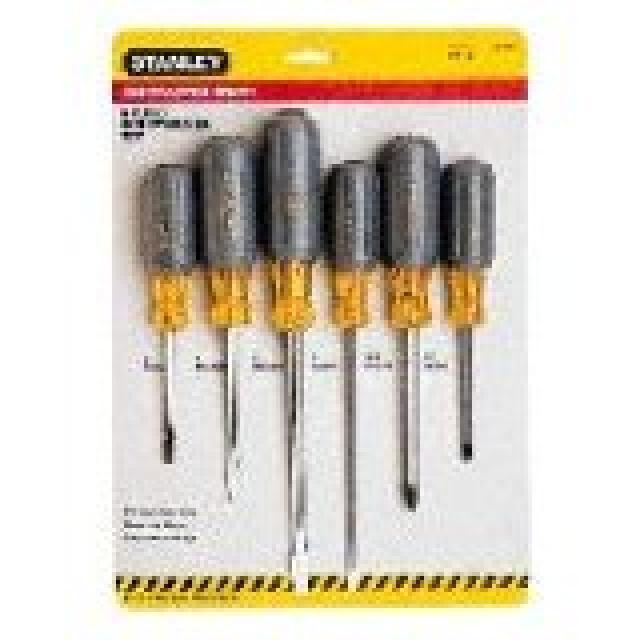screwdriver: (256, 99, 334, 612), (372, 118, 446, 531), (317, 150, 385, 590), (193, 128, 268, 516), (435, 150, 507, 488), (130, 148, 192, 486)
